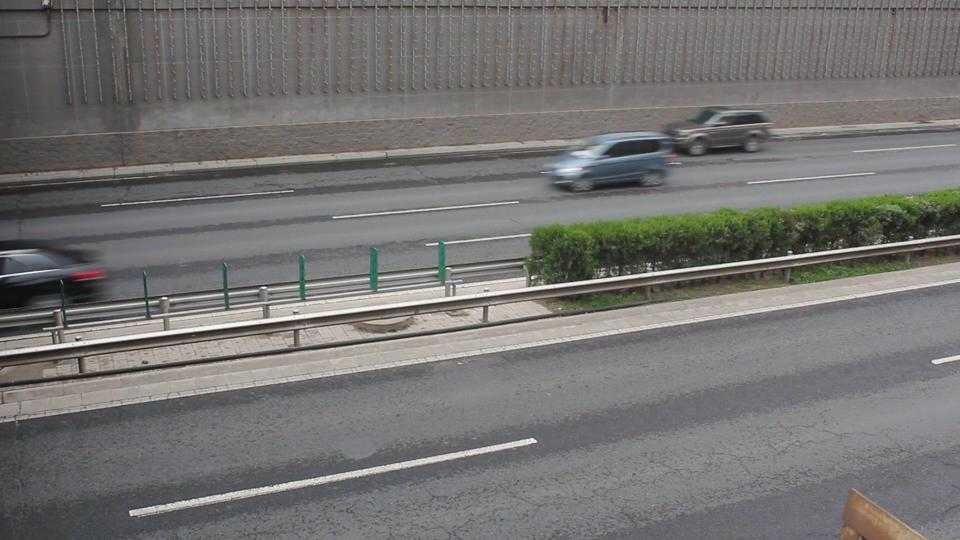car: (539, 131, 678, 192), (0, 246, 112, 308), (660, 108, 774, 156)
